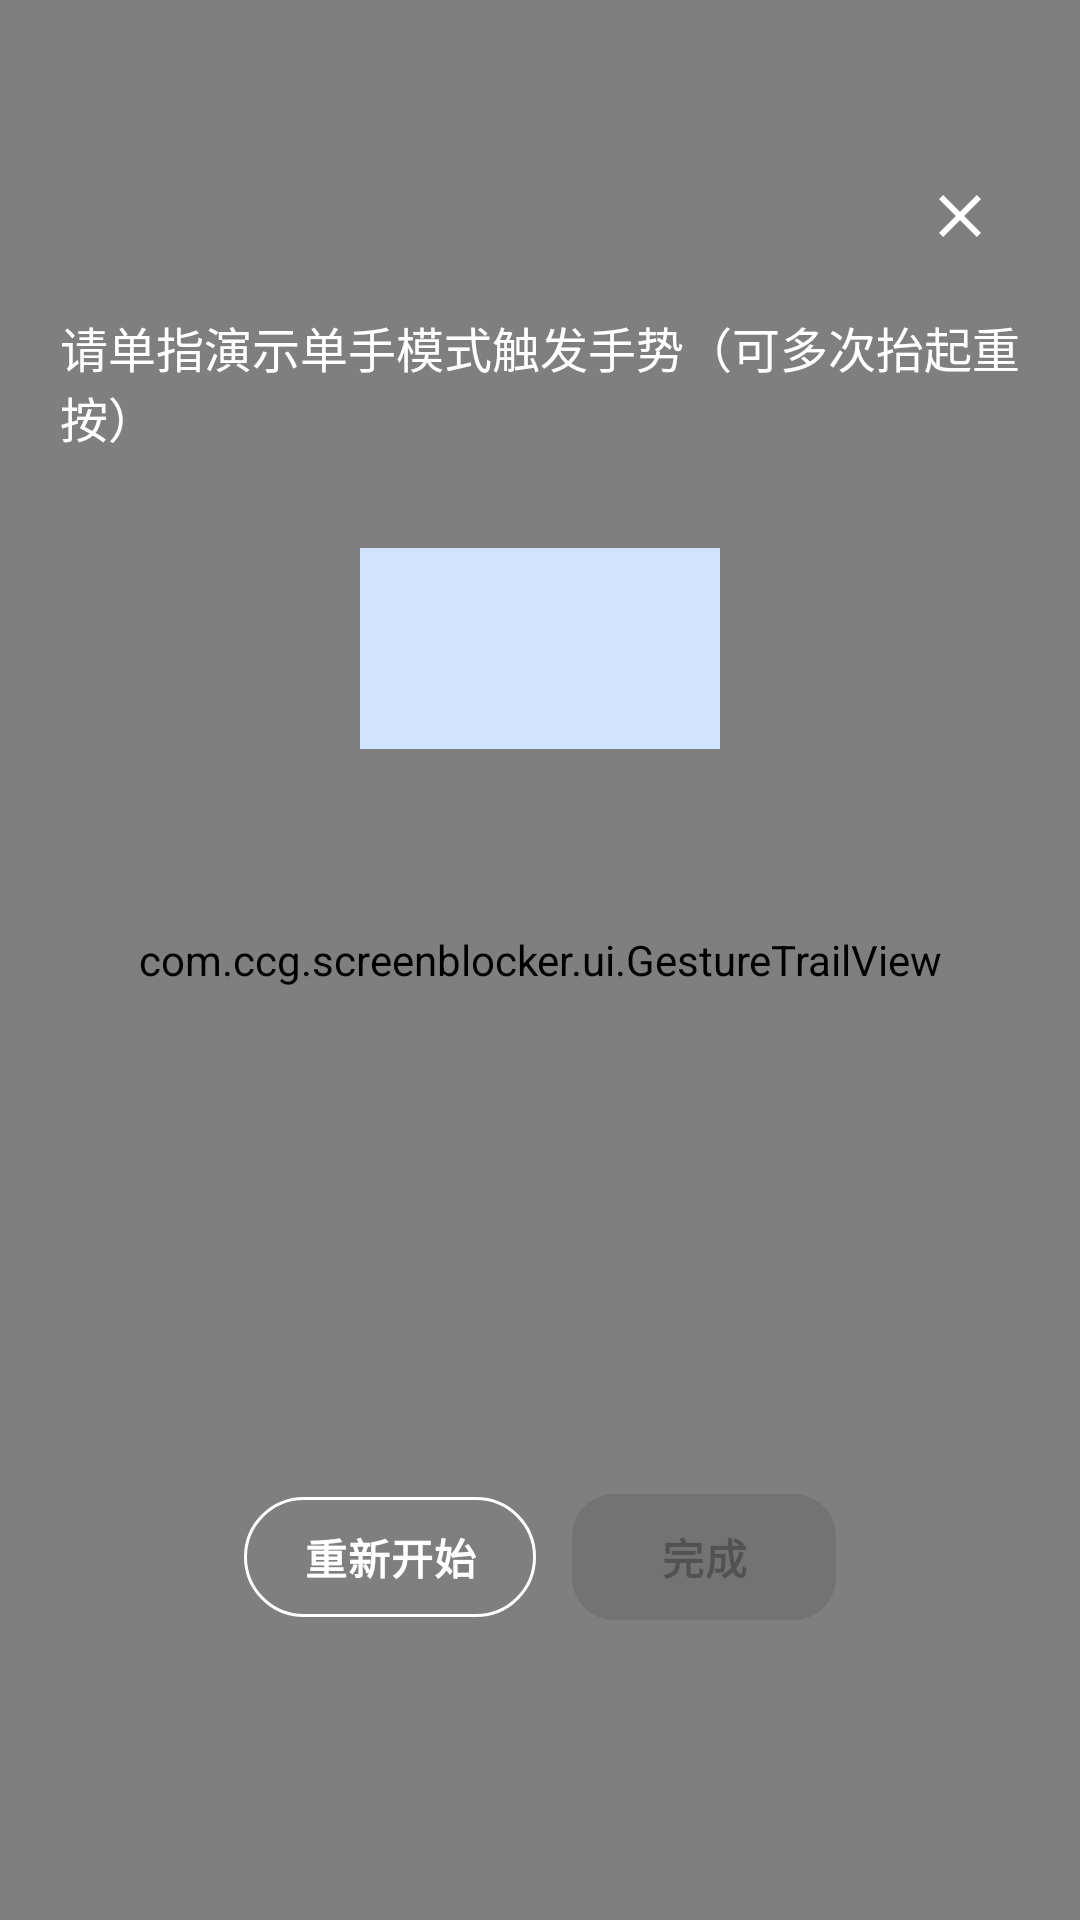

Icon click points for this 1080 × 1920 phone screenshot, format (x=x, y=y):
取消: (x=960, y=216)
